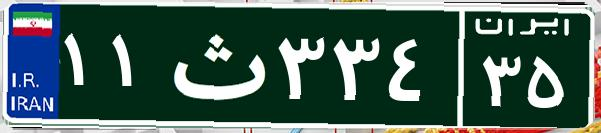1: (57, 26, 110, 107), (110, 28, 158, 105)
3: (273, 28, 330, 110), (330, 28, 385, 110), (475, 38, 525, 113)
4: (385, 28, 445, 110)
5: (525, 38, 570, 115)
ث: (158, 15, 273, 115)
